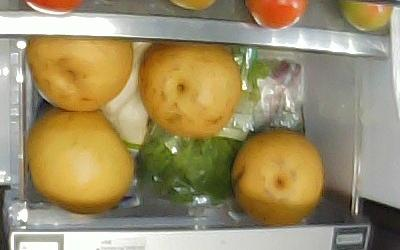pear: (28, 109, 133, 212), (140, 44, 240, 137), (231, 132, 324, 227), (26, 35, 134, 112)
